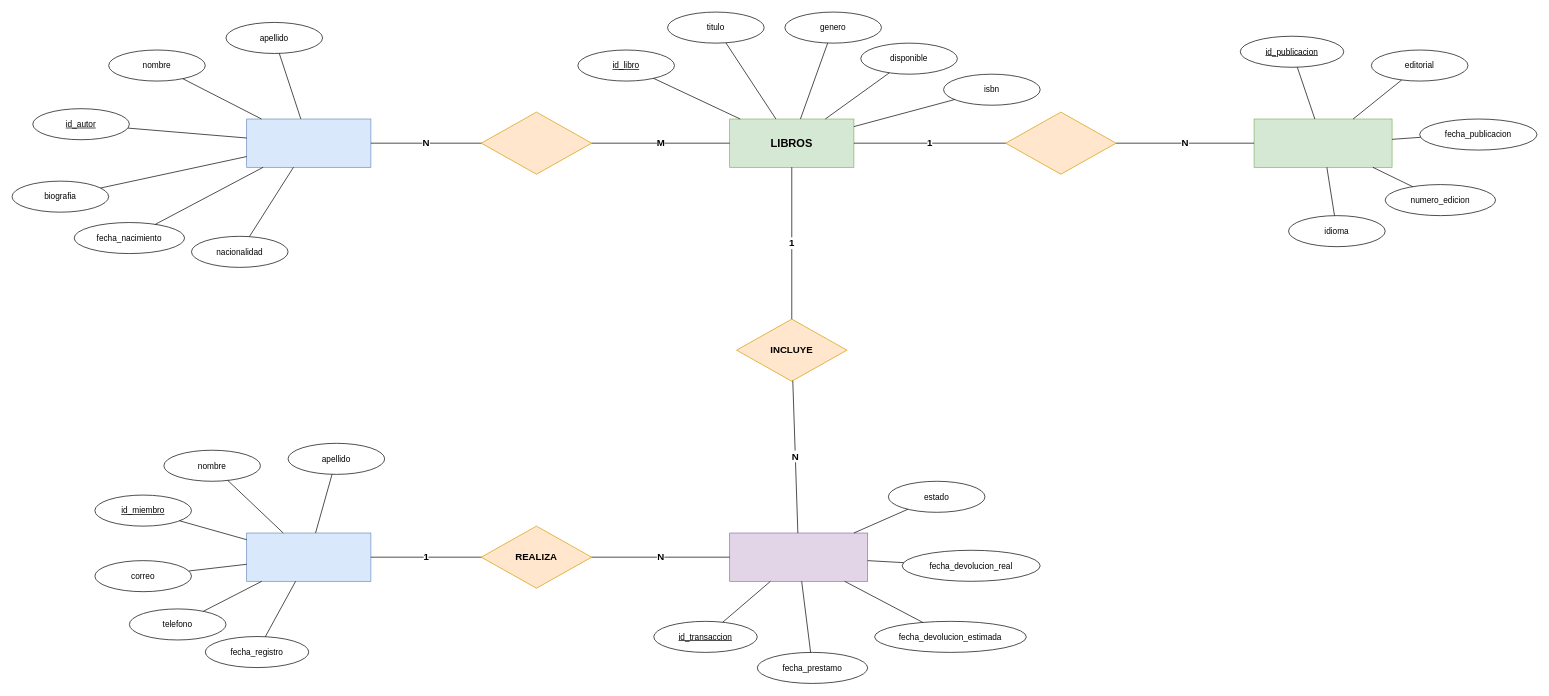
This 1549x696 diagram has some shape labels left out. The shapes that lost their labels are listed below. From the top down, each one's centre as x and y in pixels, then its label:
At point 308,142: "AUTORES".
At point 536,142: "ESCRIBE".
At point 1060,142: "TIENE".
At point 1322,142: "PUBLICACIONES".
At point 308,556: "MIEMBROS".
At point 798,556: "TRANSACCIONES".
